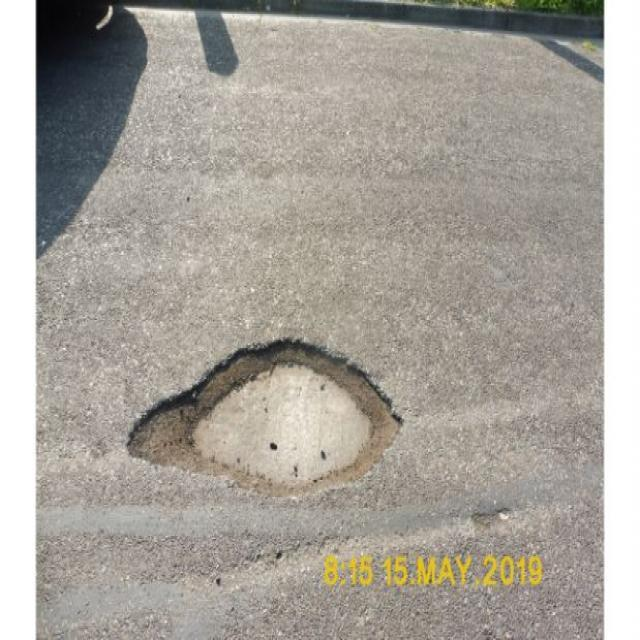pothole: (122, 331, 406, 491)
